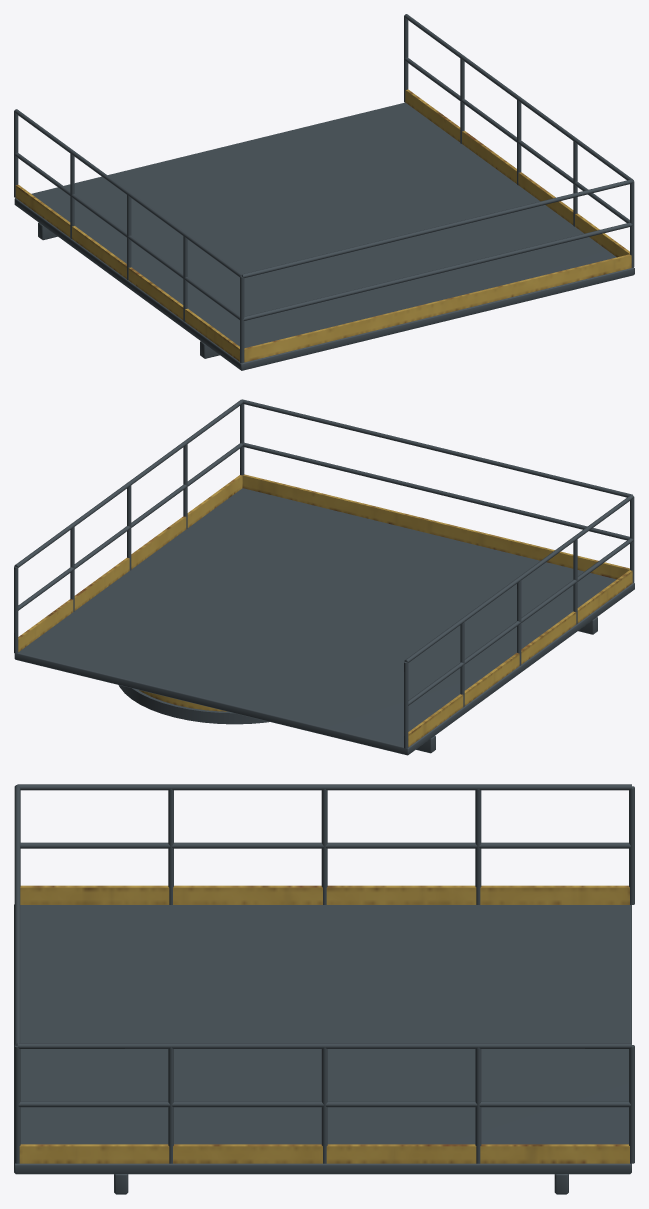
Rendered from slew_platform.glb.
3 views of the same model, one above another, from view 1: azimuth 30°, elevation 25°; view 2: azimuth 150°, elevation 25°; view 3: azimuth 270°, elevation 25° (orthographic). The views are drawn at different scales.
Visible parts, largest first — view 1: slew_platform; view 2: slew_platform; view 3: slew_platform.
Boxes of the visible parts, x1,y1,x2,y2 form: slew_platform: [14, 14, 634, 370]; slew_platform: [14, 399, 634, 755]; slew_platform: [14, 784, 634, 1194].
Bounding box in the file's own units: 5.2 × 1.51 × 5.22.
Materials: 2 (1 with a texture image).
